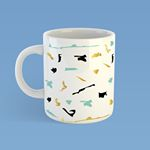cups: (11, 26, 117, 125)
